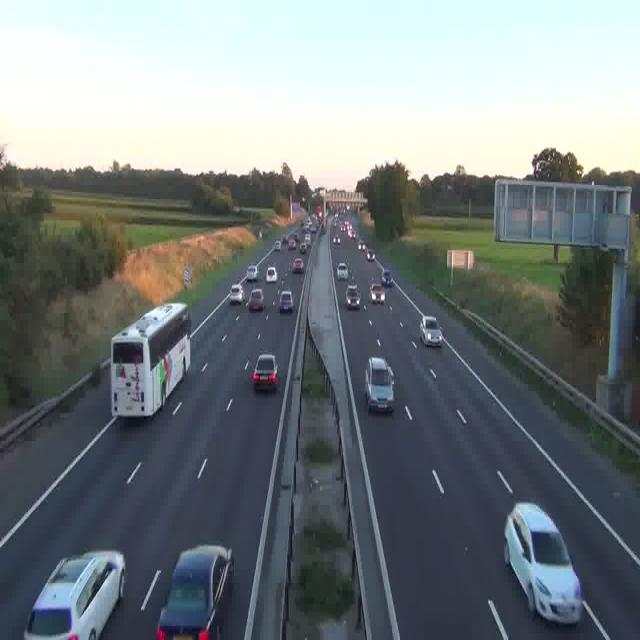bus: (109, 302, 189, 417)
car: (504, 503, 582, 624), (24, 549, 126, 640), (156, 544, 232, 639), (364, 356, 394, 412), (253, 355, 279, 393), (420, 314, 442, 346), (248, 286, 265, 311), (346, 284, 360, 310), (279, 289, 294, 313), (228, 284, 244, 304), (371, 283, 385, 302), (382, 269, 394, 288), (338, 261, 350, 280), (246, 265, 258, 282), (266, 265, 278, 282), (292, 257, 304, 272), (300, 241, 308, 254), (275, 237, 283, 250), (367, 251, 376, 262), (332, 234, 339, 244)
